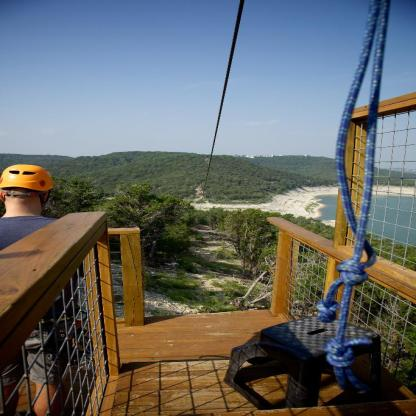Helmet: (0, 162, 60, 212)
